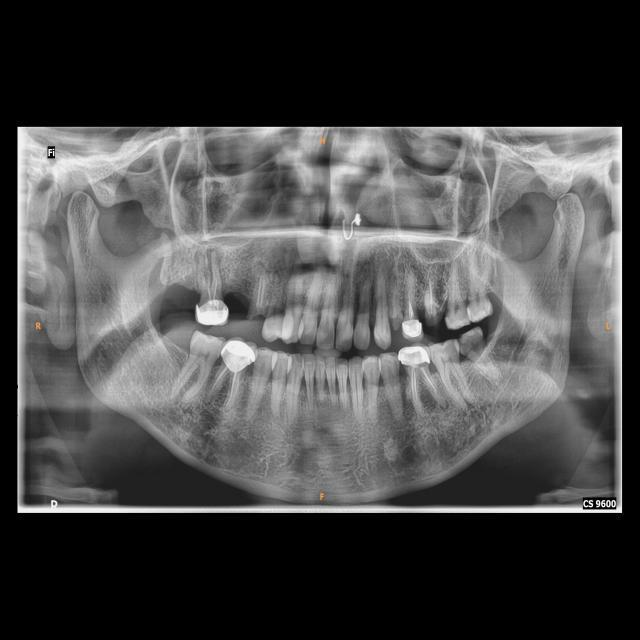dentin-curugu: (459, 326, 491, 365), (381, 312, 406, 332)
kanal-tedavisi: (404, 364, 438, 402), (214, 366, 238, 414), (418, 277, 441, 312), (201, 260, 221, 298), (255, 276, 268, 311), (404, 284, 417, 317)
kaplama: (220, 338, 257, 373), (191, 298, 231, 328), (398, 343, 432, 370), (399, 316, 424, 339)
kirik: (248, 301, 271, 323)
